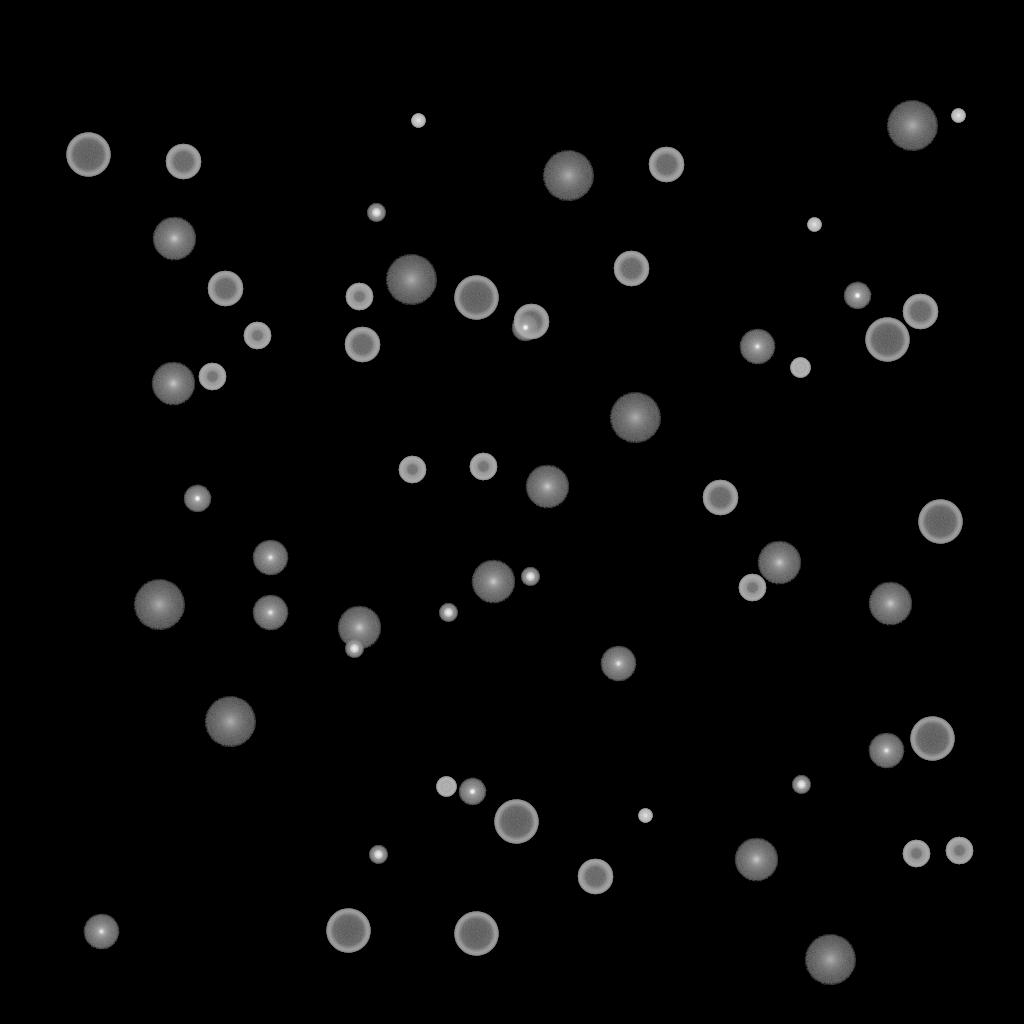depth:-10: (183, 485, 211, 513), (458, 778, 486, 806), (511, 314, 539, 342), (843, 282, 871, 310)
depth:-20: (439, 604, 457, 622), (792, 776, 810, 794), (367, 204, 385, 222), (521, 568, 539, 586), (369, 846, 387, 864), (345, 640, 363, 658)
depth:-30: (638, 809, 652, 823), (807, 218, 821, 232), (411, 114, 425, 128), (951, 109, 965, 123)
depth:-40: (436, 777, 456, 797), (790, 358, 810, 378)
depth:-50: (945, 837, 973, 865), (469, 453, 497, 481), (345, 283, 373, 311), (243, 322, 271, 350), (198, 363, 226, 391), (398, 456, 426, 484), (738, 574, 766, 602), (902, 840, 930, 868)
depth:-60: (902, 294, 938, 330), (513, 304, 549, 340), (344, 327, 380, 363), (207, 271, 243, 307), (648, 147, 684, 183), (613, 251, 649, 287), (165, 144, 201, 180), (702, 480, 738, 516), (577, 859, 613, 895)
depth:-70: (865, 318, 909, 362), (454, 276, 498, 320), (454, 912, 498, 956), (494, 800, 538, 844), (918, 500, 962, 544), (66, 133, 110, 177), (910, 717, 954, 761), (326, 909, 370, 953)
depth:0: (83, 914, 119, 950), (600, 646, 636, 682), (252, 595, 288, 631), (868, 733, 904, 769), (252, 540, 288, 576), (739, 329, 775, 365)
depth:10: (525, 465, 569, 509), (152, 217, 196, 261), (868, 582, 912, 626), (151, 362, 195, 406), (337, 606, 381, 650), (757, 541, 801, 585), (471, 560, 515, 604), (734, 838, 778, 882)
depth:20: (886, 101, 938, 151), (133, 580, 185, 630), (204, 697, 256, 747), (609, 393, 661, 443), (804, 935, 856, 985), (542, 151, 594, 201), (385, 255, 437, 305)
